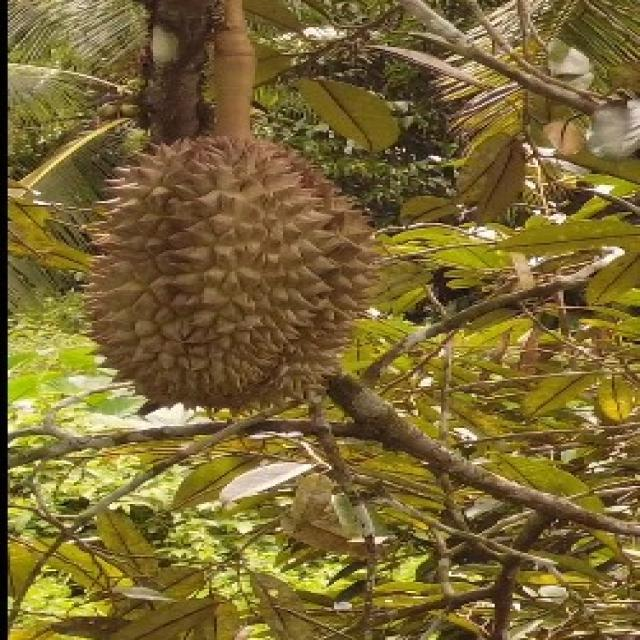mature: (82, 133, 388, 413)
